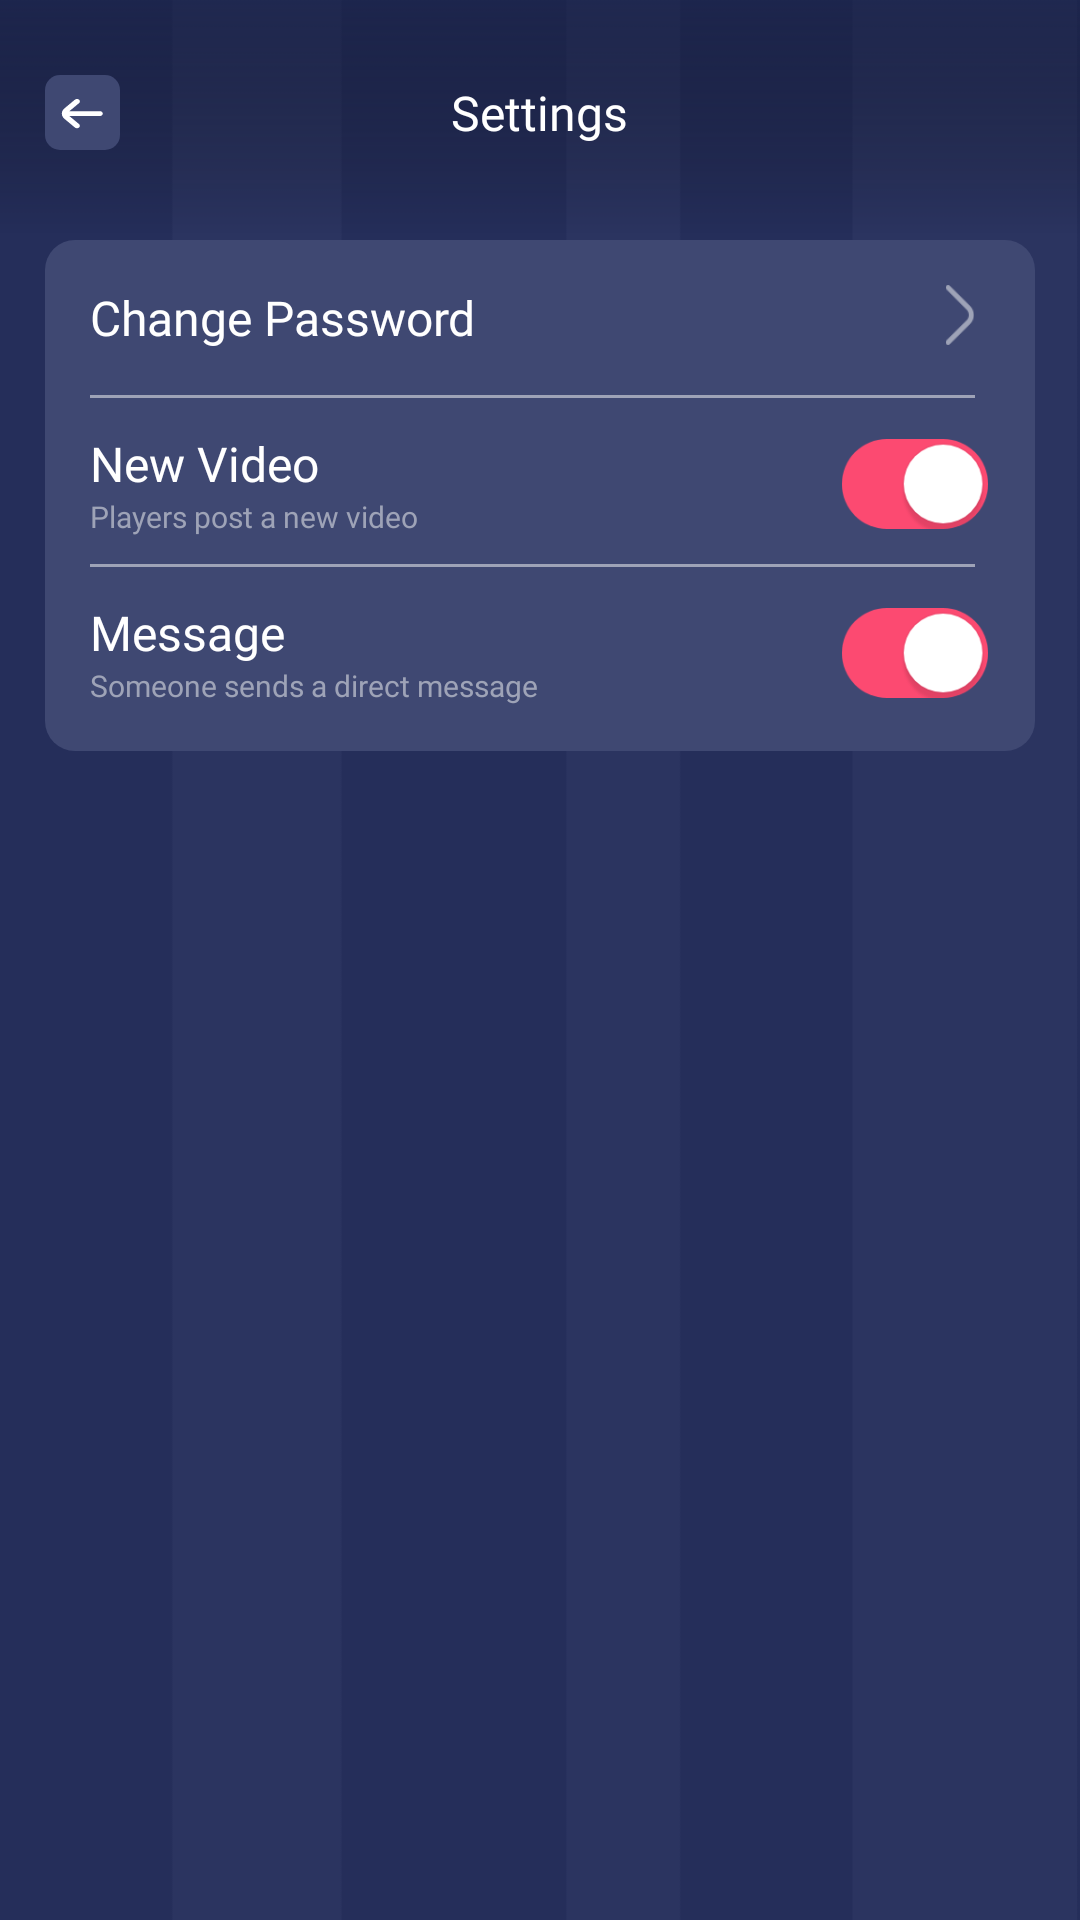

Icons on this 1080w x 1920h Android screen, each with its box as [x1=x1, y1=y1, x2=x2, y2=y2]:
back arrow: [x1=45, y1=75, x2=120, y2=150]
right arrow: [x1=946, y1=285, x2=974, y2=345]
switch on: [x1=842, y1=439, x2=988, y2=529], [x1=842, y1=608, x2=988, y2=698]
